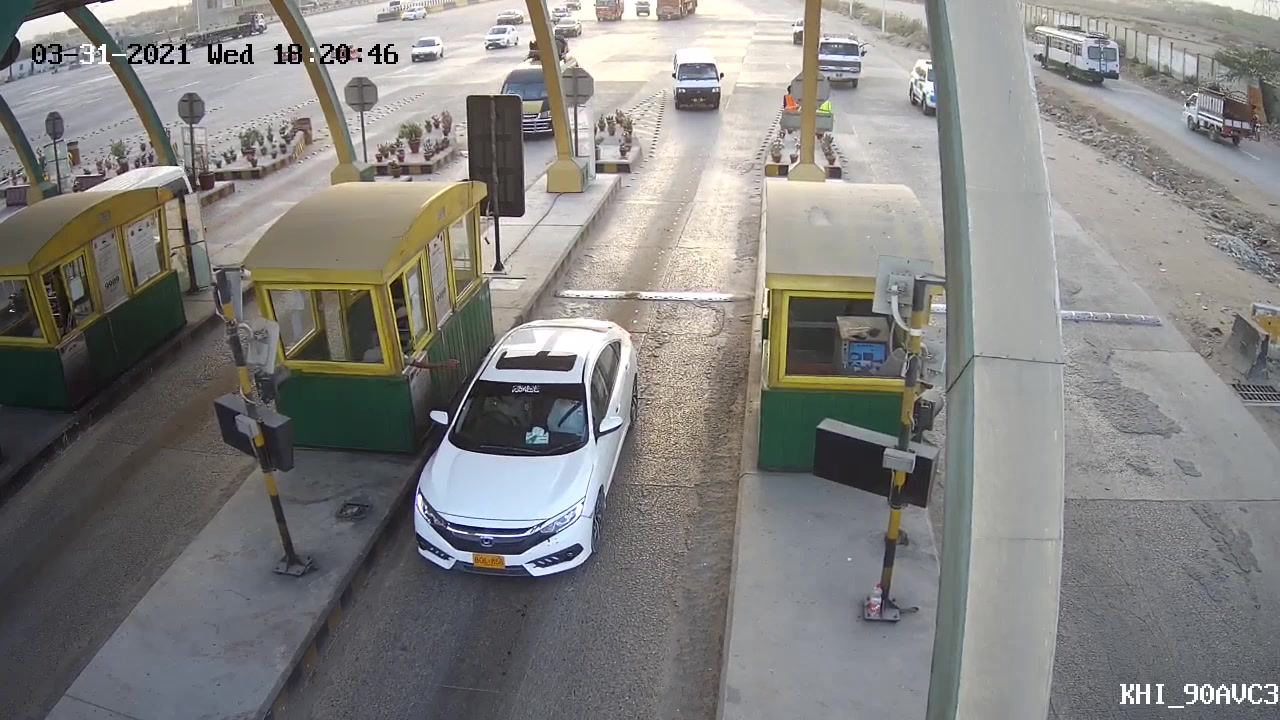F1: (410, 314, 641, 584)
